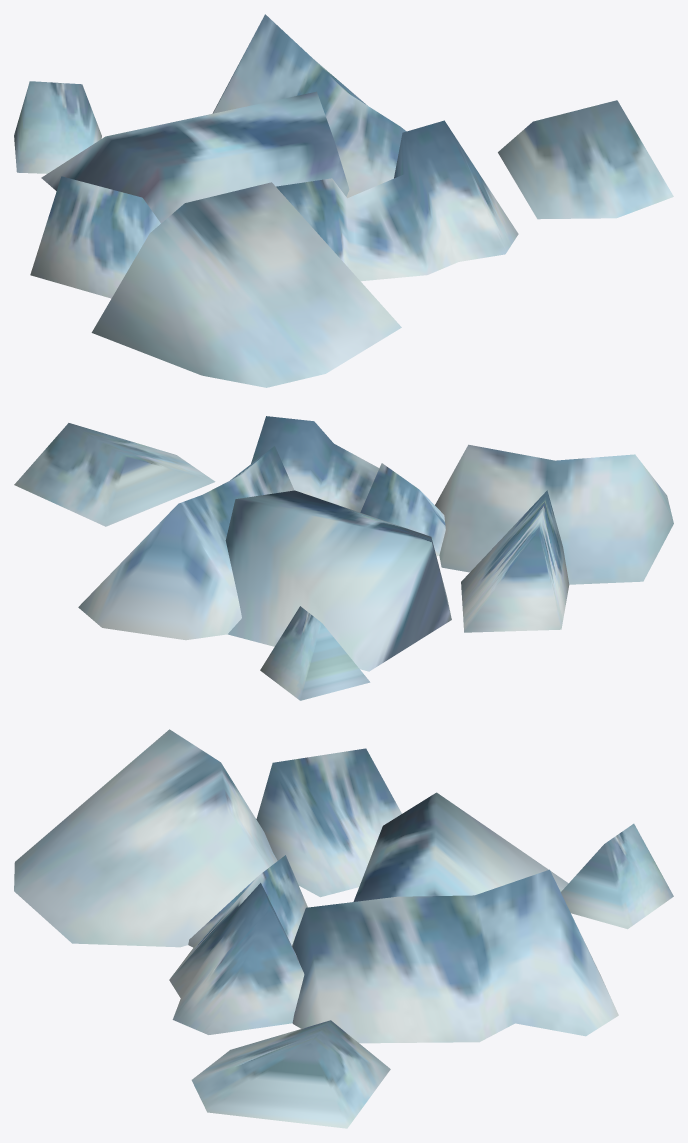
File: h5_xuesuish_b.FBX
The picture shows the model from 3 angles, top to bottom: view 1: azimuth 30°, elevation 25°; view 2: azimuth 150°, elevation 25°; view 3: azimuth 270°, elevation 25°; orthographic projection. The views are drawn at different scales.
Visible parts, largest first — view 1: h5_xuesuish_b; view 2: h5_xuesuish_b; view 3: h5_xuesuish_b.
Boxes of the visible parts, x1,y1,x2,y2 form: h5_xuesuish_b: (14,14,673,387); h5_xuesuish_b: (14,416,673,700); h5_xuesuish_b: (14,729,673,1128).
Size of the model in its own units: 1.54 by 0.2889 by 1.41.
